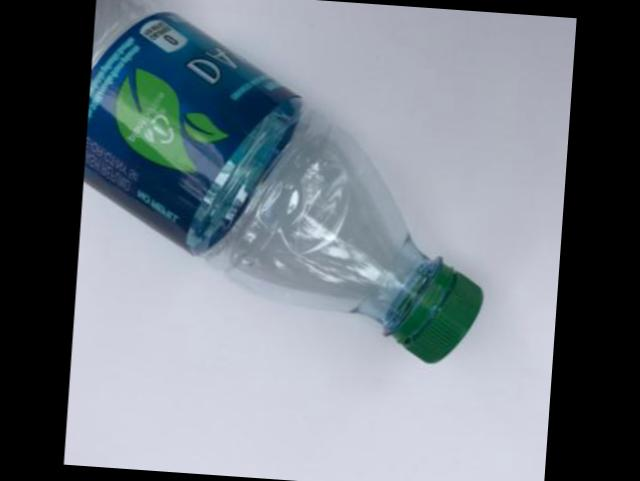plastic: (83, 0, 484, 361)
